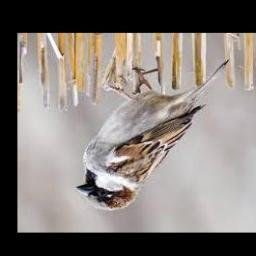Sparrow: (75, 60, 230, 212)
